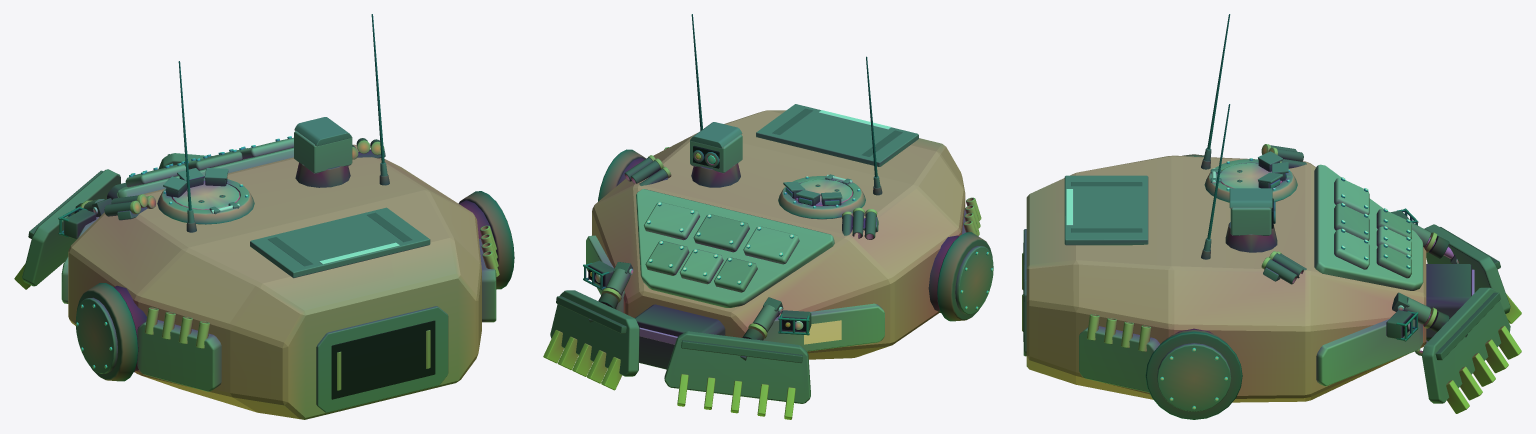
Rendered from core_abv_shredder.glb.
The picture shows the model from 3 angles, left to right: view 1: azimuth 30°, elevation 25°; view 2: azimuth 150°, elevation 25°; view 3: azimuth 270°, elevation 25°; orthographic projection. The views are drawn at different scales.
Visible parts, largest first — view 1: Body__armor_sub, Body__gunmetal, Body__dark, Body__bore, Body__armor, Body__brass, Body__chrome; view 2: Body__armor_sub, Body__gunmetal, Body__armor, Body__dark, Body__accent, Body__brass, Body__chrome, Body__decal, Body__hazard, Body__bore; view 3: Body__armor_sub, Body__gunmetal, Body__armor, Body__dark, Body__accent, Body__brass, Body__chrome, Body__rubber.
Part boxes in pixels (x1,y1,x2,y2): Body__armor_sub: (68, 131, 496, 419); Body__gunmetal: (22, 117, 448, 412); Body__dark: (28, 14, 514, 381); Body__bore: (331, 320, 435, 399); Body__armor: (61, 137, 293, 303); Body__brass: (80, 140, 499, 348); Body__chrome: (76, 136, 291, 368); Body__armor_sub: (592, 110, 978, 359); Body__gunmetal: (550, 104, 993, 403); Body__armor: (586, 179, 884, 351); Body__dark: (556, 14, 992, 369); Body__accent: (543, 330, 795, 419); Body__brass: (601, 147, 981, 338); Body__chrome: (629, 174, 993, 313); Body__decal: (804, 320, 841, 344); Body__hazard: (639, 110, 890, 344); Body__bore: (588, 146, 805, 330); Body__armor_sub: (1026, 155, 1426, 402); Body__gunmetal: (1023, 148, 1510, 411); Body__armor: (1219, 163, 1423, 386); Body__dark: (1071, 14, 1500, 419); Body__accent: (1446, 293, 1521, 413); Body__brass: (1086, 144, 1437, 351); Body__chrome: (1160, 158, 1458, 409); Body__rubber: (1429, 236, 1449, 332).
Bounding box in the file's own units: 2.33 × 1.75 × 2.63.
